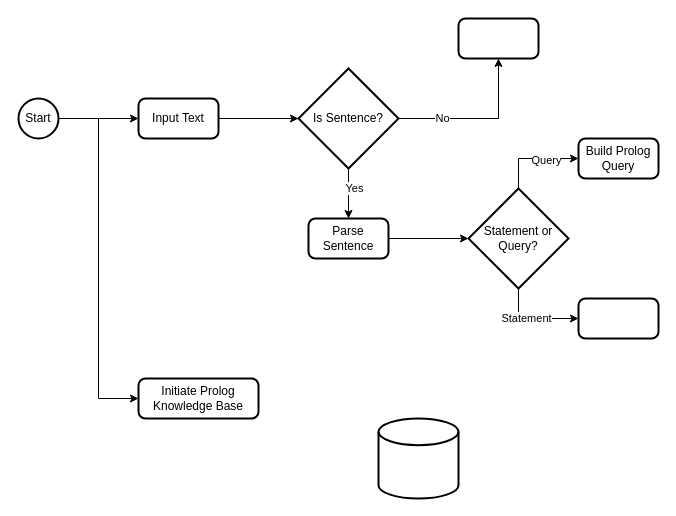
This 676x516 diagram has some shape labels left out. Here are the shapes that lost their labels. From the top down, the centre of each, then its label:
At (x=498, y=38): "Return".
At (x=618, y=318): "Build Prolog Statement".
At (x=418, y=458): "Prolog KB".
